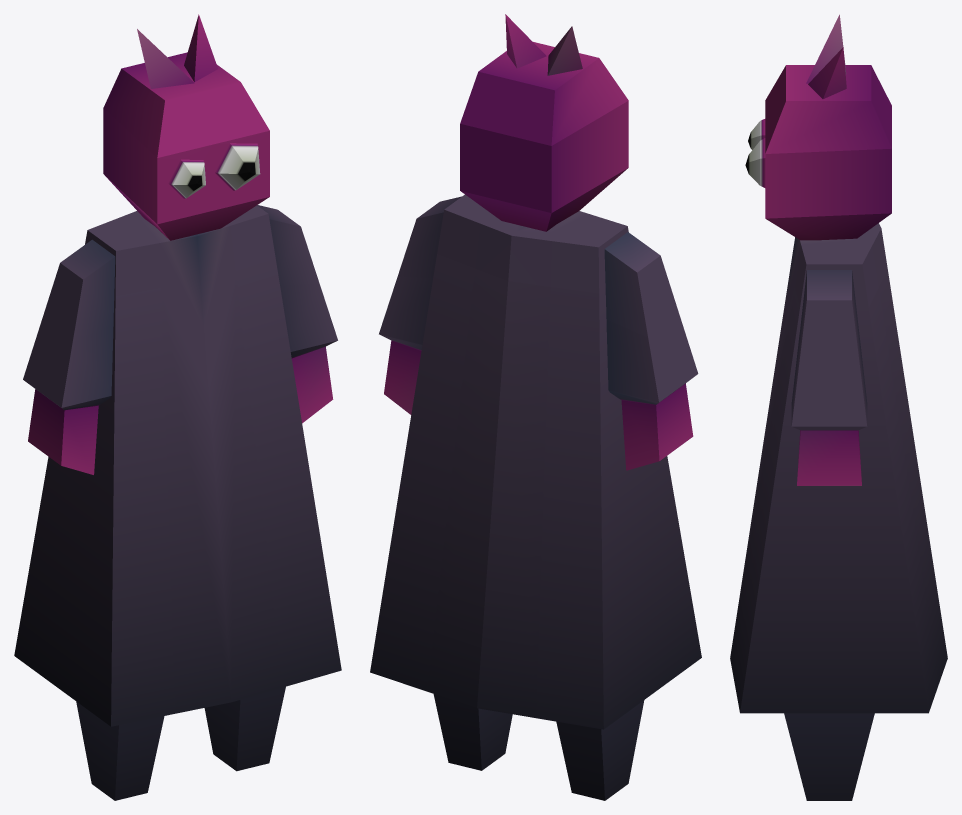
File: citizen_1.obj
3 views of the same model, side by side, from view 1: azimuth 30°, elevation 25°; view 2: azimuth 150°, elevation 25°; view 3: azimuth 270°, elevation 25° (orthographic). The views are drawn at different scales.
Visible parts, largest first — view 1: kid_body_M, adult_body_M_L_head.001, kid_body_M_Arm_Right.003, kid_body_Arm_Left.004, kid_body_Feet_Right.002, kid_body_Feet_Left.002; view 2: kid_body_M, adult_body_M_L_head.001, kid_body_M_Arm_Right.003, kid_body_Arm_Left.004, kid_body_Feet_Right.002, kid_body_Feet_Left.002; view 3: kid_body_M, adult_body_M_L_head.001, kid_body_Arm_Left.004, kid_body_Feet_Left.002.
Boxes of the visible parts, <box> form: kid_body_M: <box>14,205,341,726</box>; adult_body_M_L_head.001: <box>103,14,269,240</box>; kid_body_M_Arm_Right.003: <box>23,239,115,474</box>; kid_body_Arm_Left.004: <box>257,205,337,423</box>; kid_body_Feet_Right.002: <box>76,701,164,800</box>; kid_body_Feet_Left.002: <box>204,686,285,771</box>; kid_body_M: <box>370,194,701,729</box>; adult_body_M_L_head.001: <box>460,14,628,231</box>; kid_body_M_Arm_Right.003: <box>604,232,698,470</box>; kid_body_Arm_Left.004: <box>379,196,461,414</box>; kid_body_Feet_Right.002: <box>556,700,644,800</box>; kid_body_Feet_Left.002: <box>433,694,512,770</box>; kid_body_M: <box>730,223,947,713</box>; adult_body_M_L_head.001: <box>745,14,891,240</box>; kid_body_Arm_Left.004: <box>791,270,867,485</box>; kid_body_Feet_Left.002: <box>784,713,874,800</box>.
Bounding box in the file's own units: 3.13 × 8.13 × 2.19.
